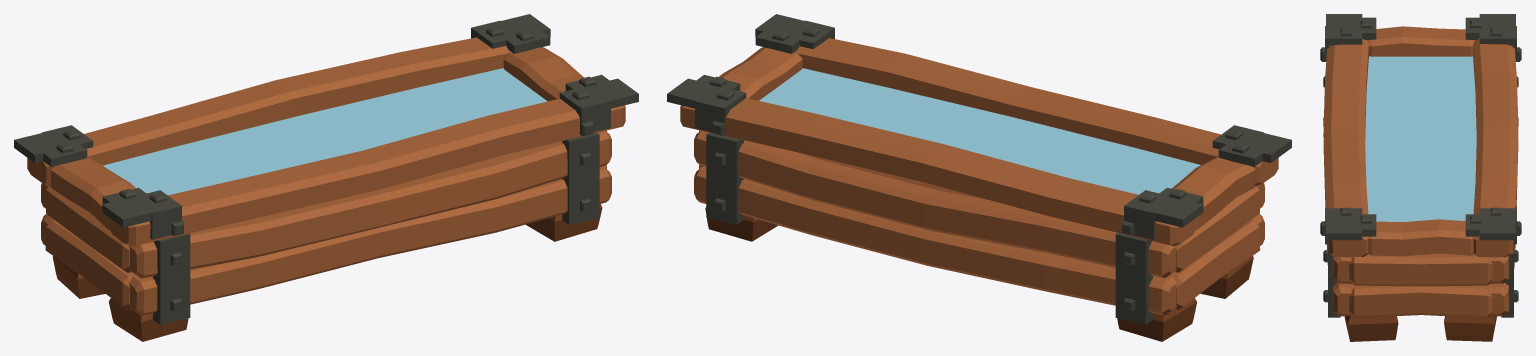
The model's file is water-trough-charming.glb.
3 renders of one model, left to right at view 1: azimuth 30°, elevation 25°; view 2: azimuth 150°, elevation 25°; view 3: azimuth 270°, elevation 25°, orthographic. The views are drawn at different scales.
Visible parts, largest first — view 1: rim, walls, water, straps, feet; view 2: rim, walls, water, straps, feet, floor; view 3: rim, water, walls, straps, feet.
Part boxes in pixels (x1=…): rim: x1=27, y1=37, x2=625, y2=246; walls: x1=41, y1=130, x2=611, y2=315; water: x1=103, y1=68, x2=547, y2=195; straps: x1=14, y1=14, x2=638, y2=324; feet: x1=52, y1=204, x2=602, y2=341; rim: x1=680, y1=38, x2=1278, y2=246; walls: x1=694, y1=130, x2=1264, y2=315; water: x1=759, y1=68, x2=1200, y2=194; straps: x1=667, y1=14, x2=1291, y2=324; feet: x1=705, y1=207, x2=1253, y2=341; floor: x1=796, y1=152, x2=986, y2=199; rim: x1=1323, y1=26, x2=1518, y2=257; water: x1=1365, y1=56, x2=1476, y2=221; walls: x1=1325, y1=205, x2=1516, y2=317; straps: x1=1320, y1=14, x2=1521, y2=317; feet: x1=1344, y1=316, x2=1496, y2=341.
Bounding box in the file's own units: 1.88 × 0.498 × 0.728.
